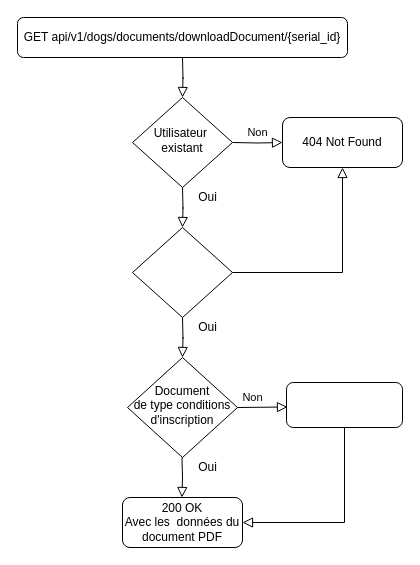
Some shapes in this 420 by 565 pixel diagram are drawn without their labels. Here are the shapes that lost their labels. From the top down, the centre of each, then its label:
(x=182, y=272): Utilisateur propriétaire
(x=344, y=405): Document PDF simple
